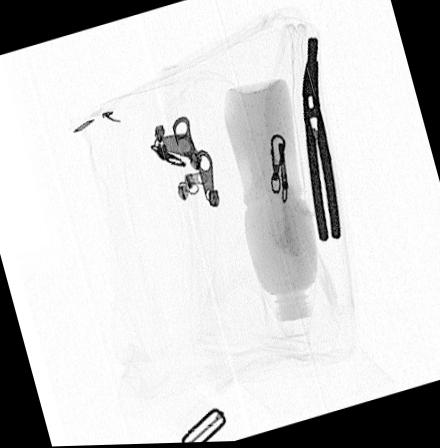Pliers: (300, 37, 345, 245)
